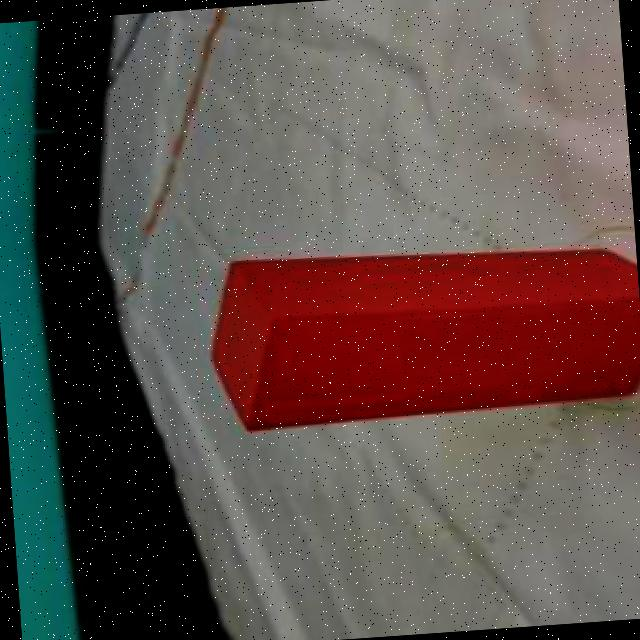redbox: (201, 234, 640, 437)
